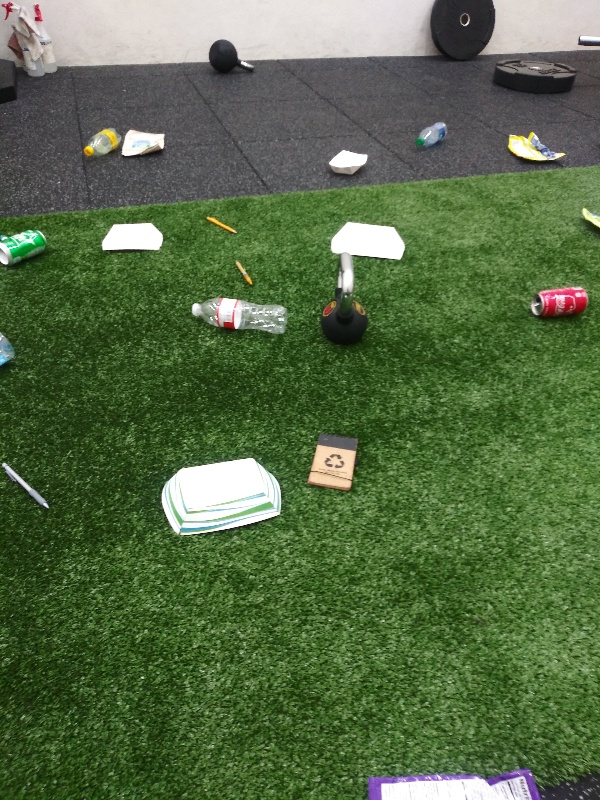bag: (353, 766, 548, 800), (500, 126, 569, 165), (119, 121, 169, 163), (576, 201, 600, 237)
bottle: (185, 296, 291, 339), (78, 121, 125, 162), (410, 116, 454, 152), (1, 325, 19, 364)
can: (1, 223, 53, 271), (524, 282, 593, 318)
plate: (157, 457, 285, 542), (327, 219, 409, 268), (93, 220, 173, 259), (326, 145, 372, 179)
